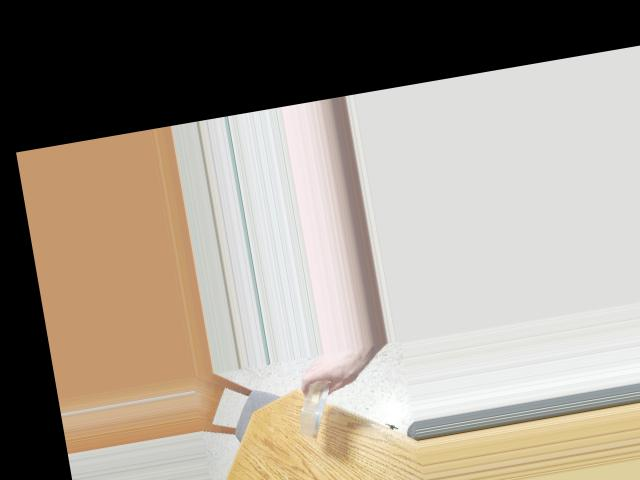cheese: (291, 371, 337, 443)
